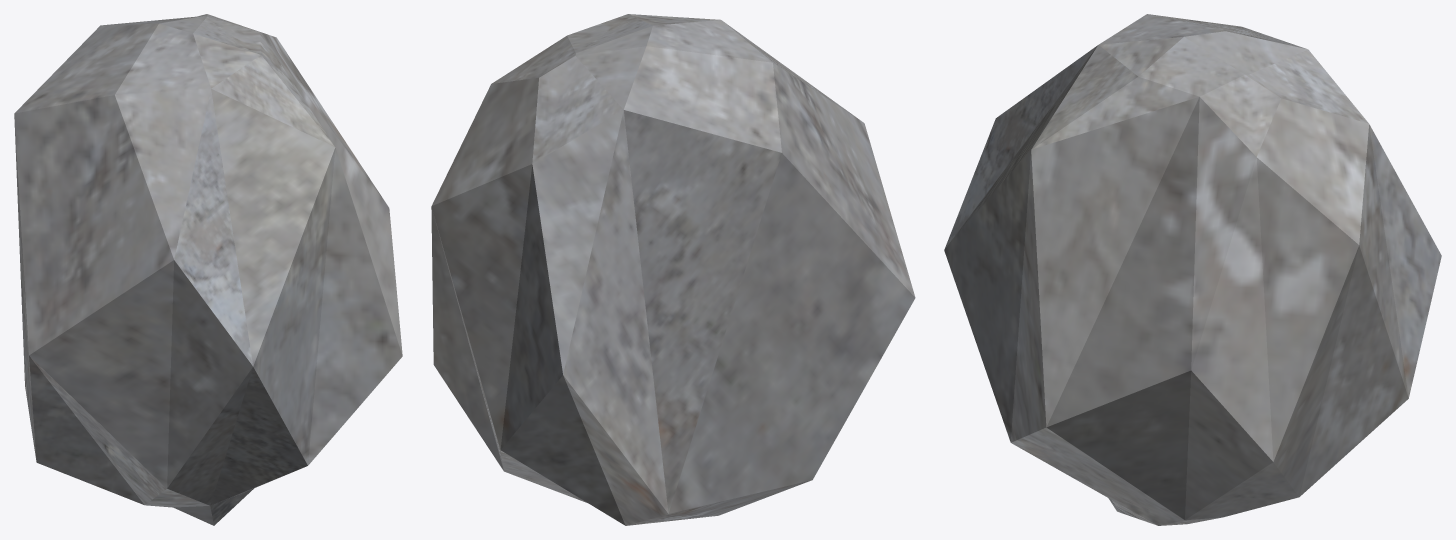
The model's file is mg_12_crystal_2.fbx.
3 renders of one model, left to right at view 1: azimuth 30°, elevation 25°; view 2: azimuth 150°, elevation 25°; view 3: azimuth 270°, elevation 25°, orthographic. The views are drawn at different scales.
Visible parts, largest first — view 1: mg_12_crystal_2; view 2: mg_12_crystal_2; view 3: mg_12_crystal_2.
Boxes of the visible parts, x1=… form: mg_12_crystal_2: x1=14, y1=14, x2=402, y2=525; mg_12_crystal_2: x1=431, y1=14, x2=915, y2=525; mg_12_crystal_2: x1=944, y1=14, x2=1441, y2=525.
Bounding box in the file's own units: 13.15 × 14.54 × 13.5.
